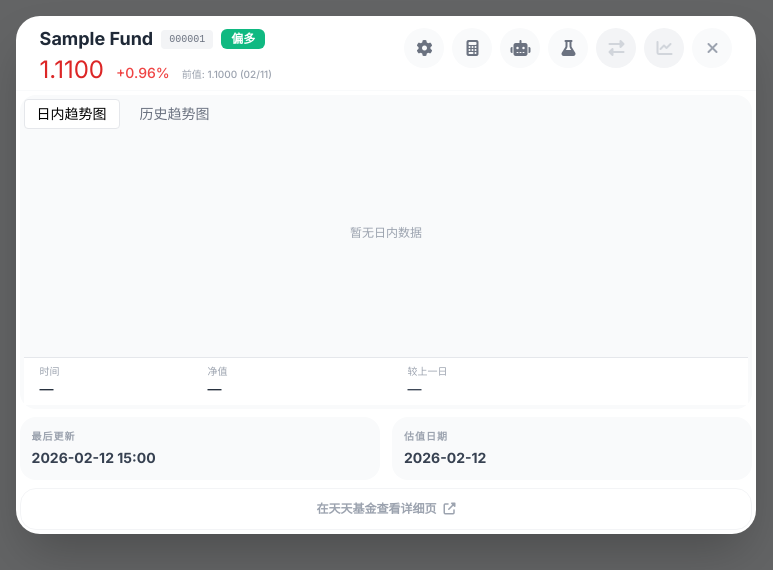
Test: FundDetailsModal SMA behavior › rating tooltip shows reasons
The width and height of the screenshot is (773, 570).
Click the button "历史趋势图" at (175, 114), box [128, 100, 222, 128]
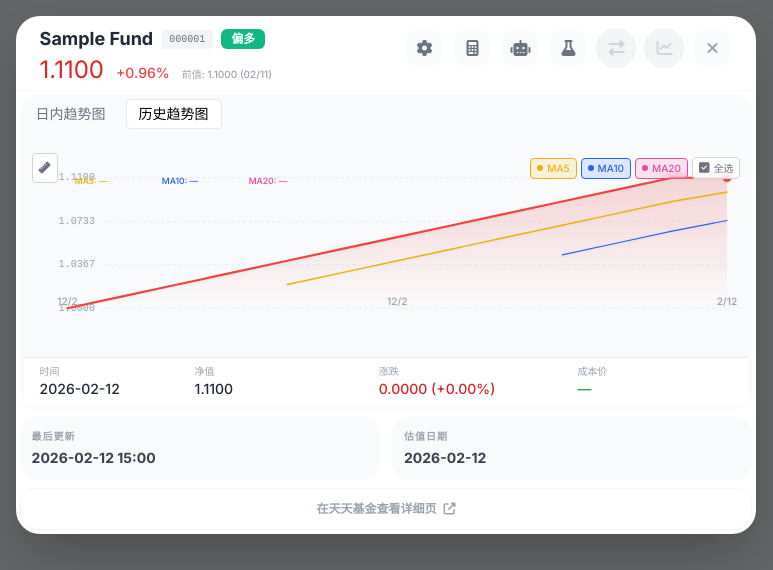
Hover over the button with aria-label "风险评级" at (243, 39), box [221, 29, 265, 49]
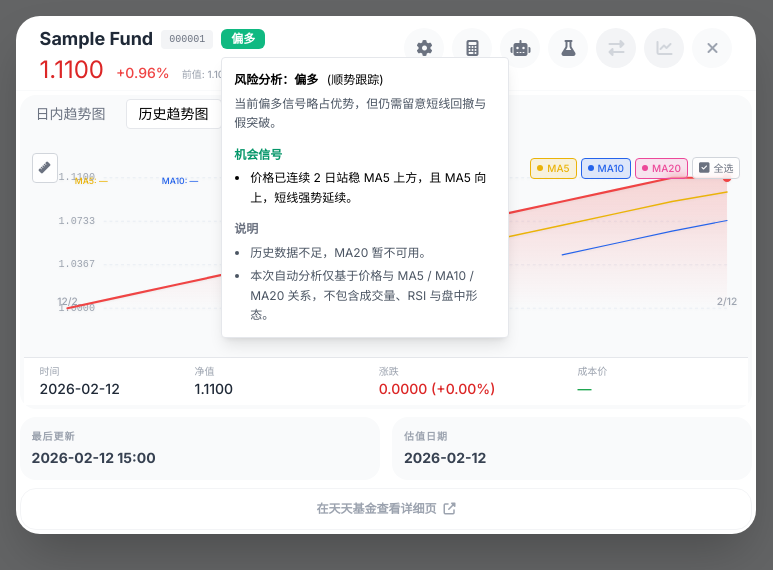
Now the tooltip is shown, box [221, 57, 509, 338]
Now the tooltip shows "风险分析", box [234, 72, 294, 87]
